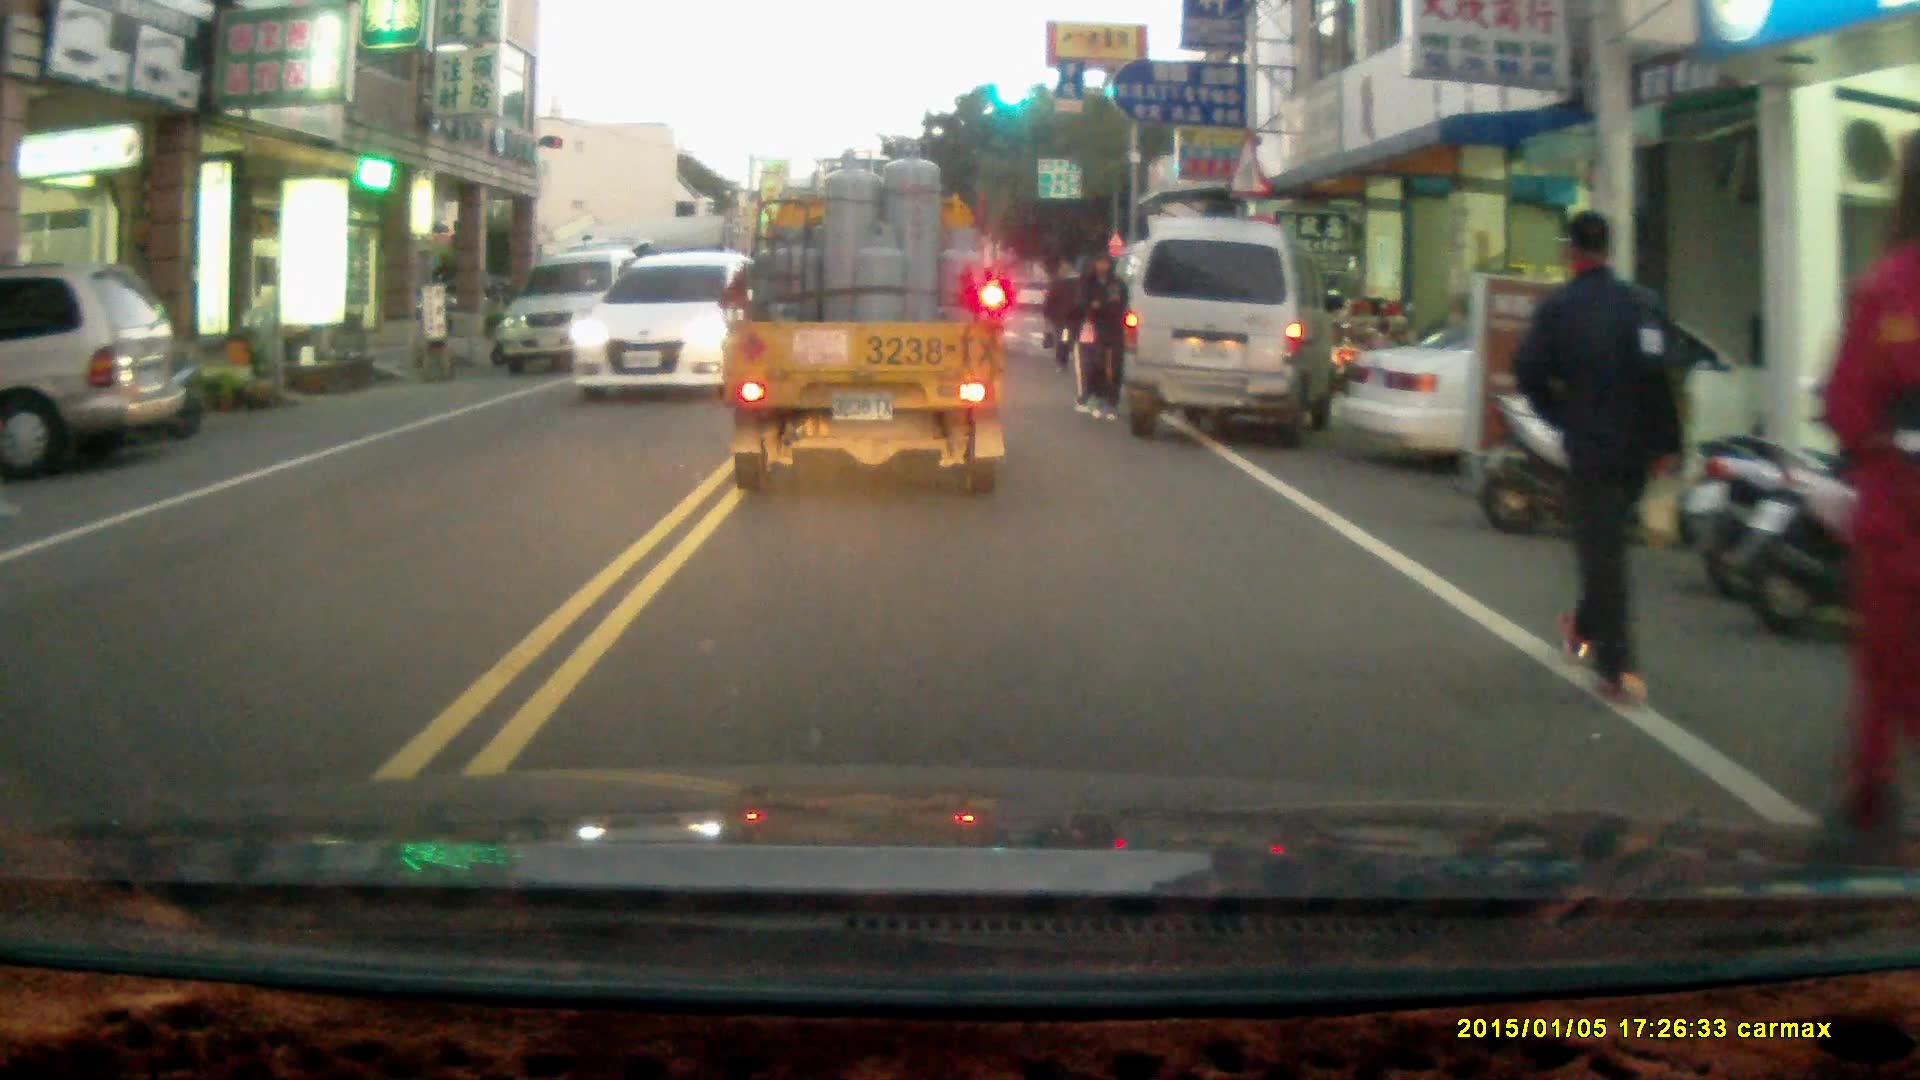pedestrian: (1515, 208, 1690, 713), (1817, 133, 1920, 844), (1078, 250, 1125, 418), (1042, 251, 1088, 368)
vehicle: (722, 178, 1009, 494), (1340, 300, 1809, 479), (1122, 212, 1341, 443), (1, 261, 187, 472), (567, 248, 810, 397), (493, 250, 665, 374)
